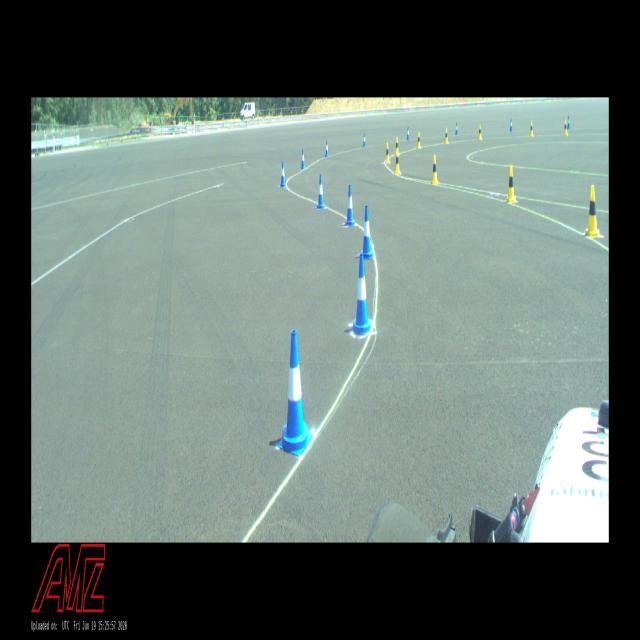blue_cone: (278, 330, 312, 457), (352, 255, 371, 335), (360, 205, 373, 258), (344, 185, 356, 227), (316, 174, 325, 209), (279, 160, 286, 188), (300, 149, 306, 170), (325, 141, 329, 157), (406, 126, 410, 140), (567, 116, 571, 130), (363, 133, 366, 147), (455, 122, 458, 136), (510, 118, 512, 132)
yellow_cone: (585, 185, 600, 237), (505, 165, 518, 204), (431, 154, 439, 185), (395, 150, 401, 176), (385, 143, 390, 164), (395, 137, 400, 156), (563, 120, 568, 136), (417, 131, 421, 149), (444, 128, 448, 144), (478, 124, 482, 140), (530, 121, 534, 136)
